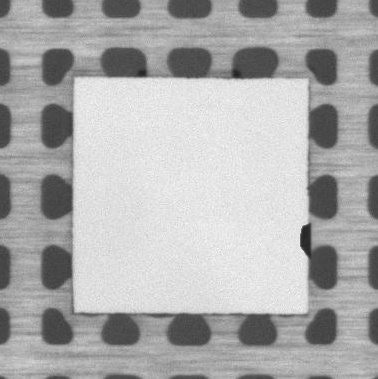DIE_BROKEN: (297, 221, 313, 261)
